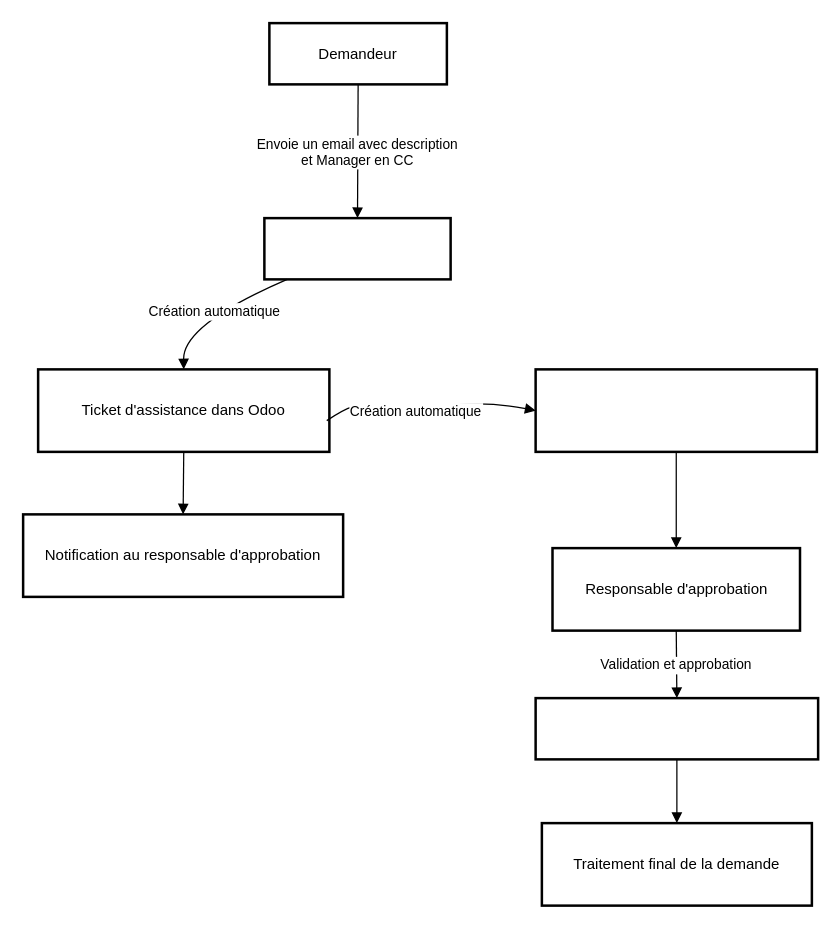
This 840x928 diagram has some shape labels left out. The shapes that lost their labels are listed below. From the top down, each one's centre as x and y in pixels, then its label:
At pixel 356 248: "Alias email : expression@smartmssa.com".
At pixel 676 410: "Demande de validation dans Odoo".
At pixel 676 728: "Processus de validation".
